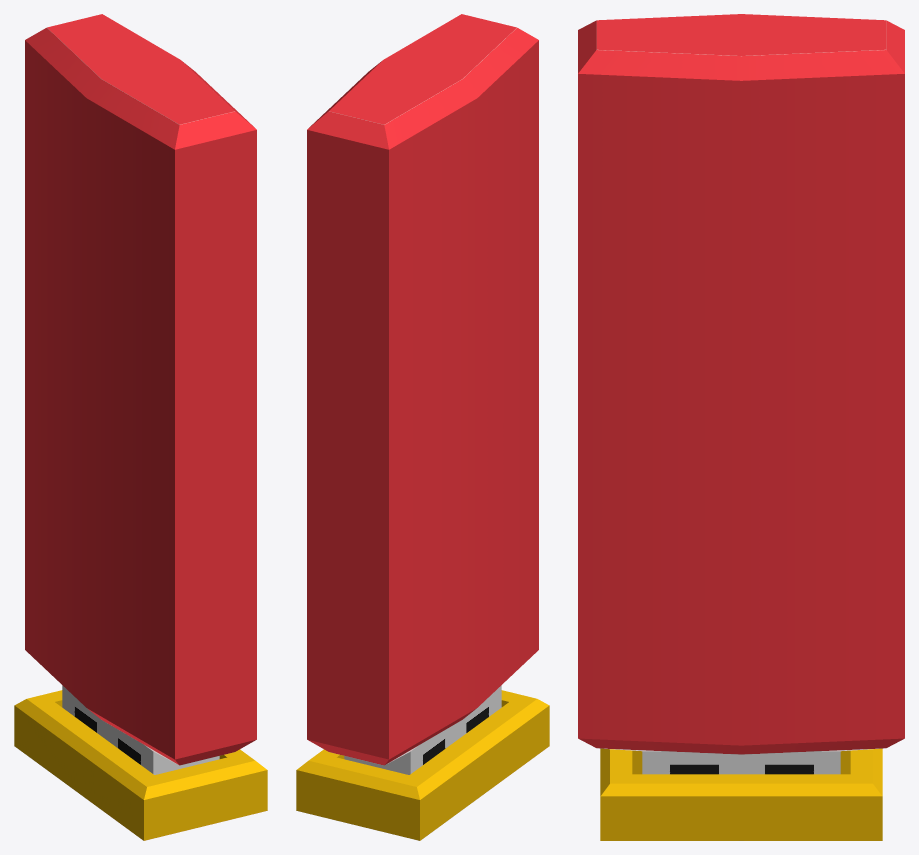
Rendered from ST_wall_USB.fbx.
The picture shows the model from 3 angles, left to right: view 1: azimuth 30°, elevation 25°; view 2: azimuth 150°, elevation 25°; view 3: azimuth 270°, elevation 25°; orthographic projection. The views are drawn at different scales.
Visible parts, largest first — view 1: pCube9, pCube10; view 2: pCube9, pCube10; view 3: pCube9, pCube10.
Boxes of the visible parts, x1=… form: pCube9: x1=25, y1=14, x2=256, y2=774; pCube10: x1=14, y1=690, x2=267, y2=840; pCube9: x1=307, y1=14, x2=538, y2=774; pCube10: x1=296, y1=690, x2=549, y2=840; pCube9: x1=578, y1=14, x2=904, y2=774; pCube10: x1=600, y1=748, x2=882, y2=840.
Size of the model in its own units: 1.37 by 7.5 by 2.87.
1 material, 1 textured.
